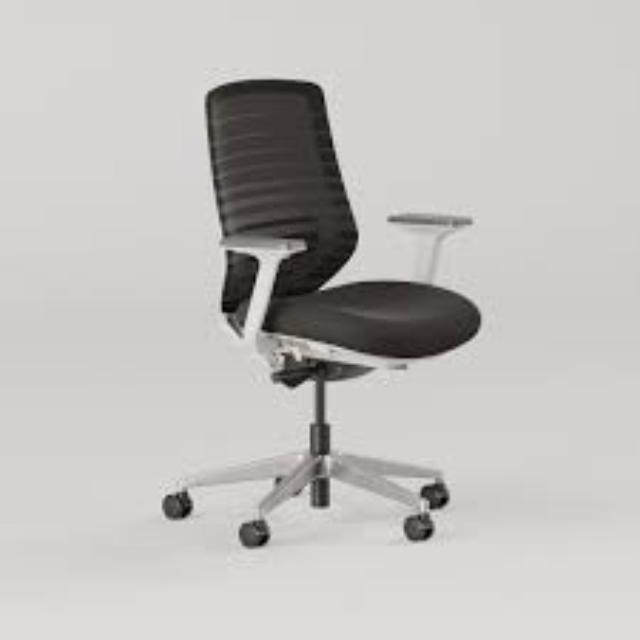obstacle: (99, 34, 512, 596)
